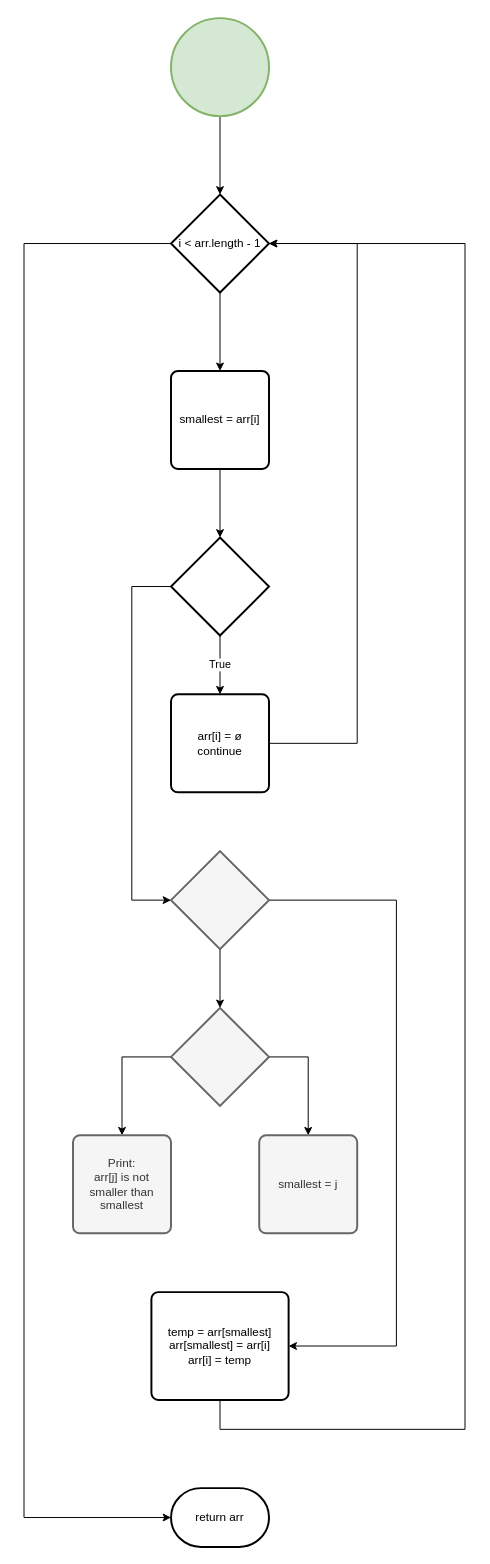
Some shapes in this 490 by 1564 pixel diagram are drawn without their labels. The shapes that lost their labels are listed below. From the top down, each one's centre as x and y in pixels, then its label:
the point at 220,67: selectionSort(arr)
the point at 220,586: smallest isNaN
the point at 220,900: j = i + 1 j < arr.length
the point at 220,1056: j < i
